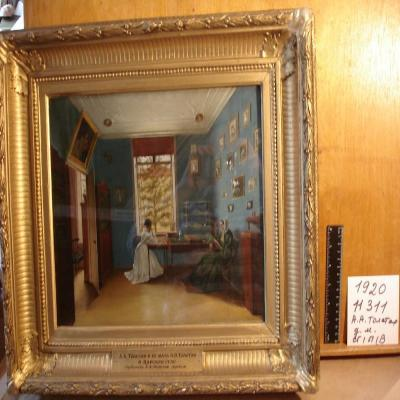painting: (0, 7, 320, 394)
